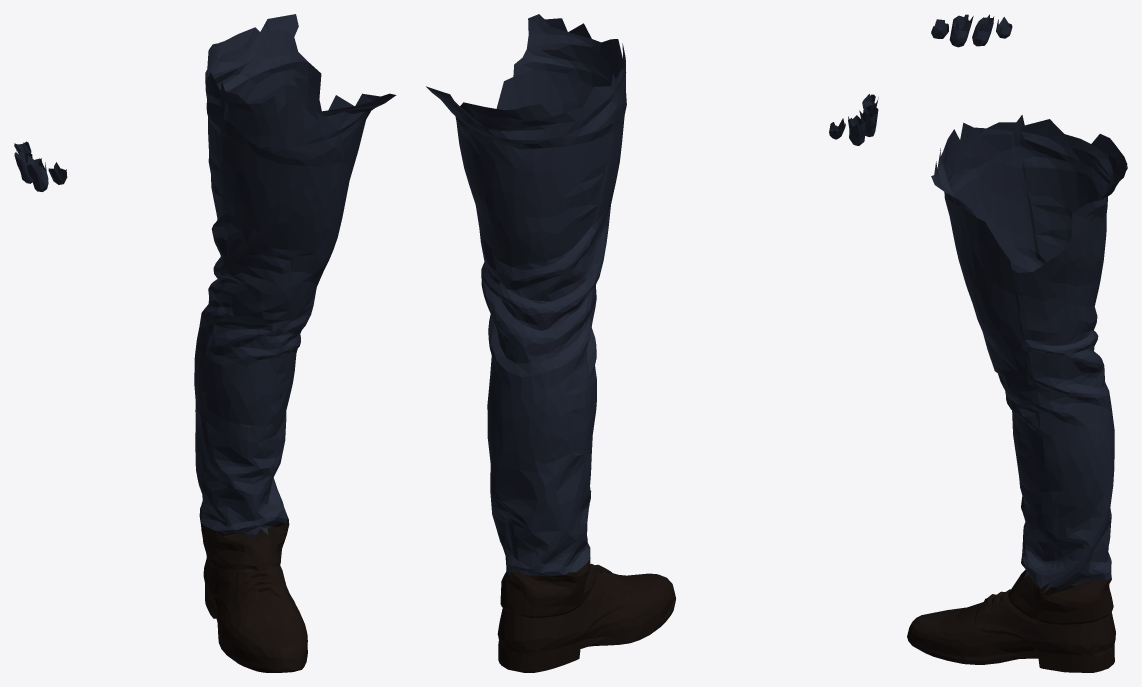
The model's file is prof_boss_leg_r.obj.
The picture shows the model from 3 angles, left to right: view 1: azimuth 30°, elevation 25°; view 2: azimuth 150°, elevation 25°; view 3: azimuth 270°, elevation 25°; orthographic projection. The views are drawn at different scales.
Parts seen in each view (by area): view 1: BossProf.001; view 2: BossProf.001; view 3: BossProf.001.
Part boxes in pixels (box(x1,y1,x2,y2)): BossProf.001: box(14, 14, 396, 672); BossProf.001: box(426, 14, 878, 672); BossProf.001: box(907, 14, 1127, 672).
Size of the model in its own units: 0.7927 by 1.2 by 0.4545.
